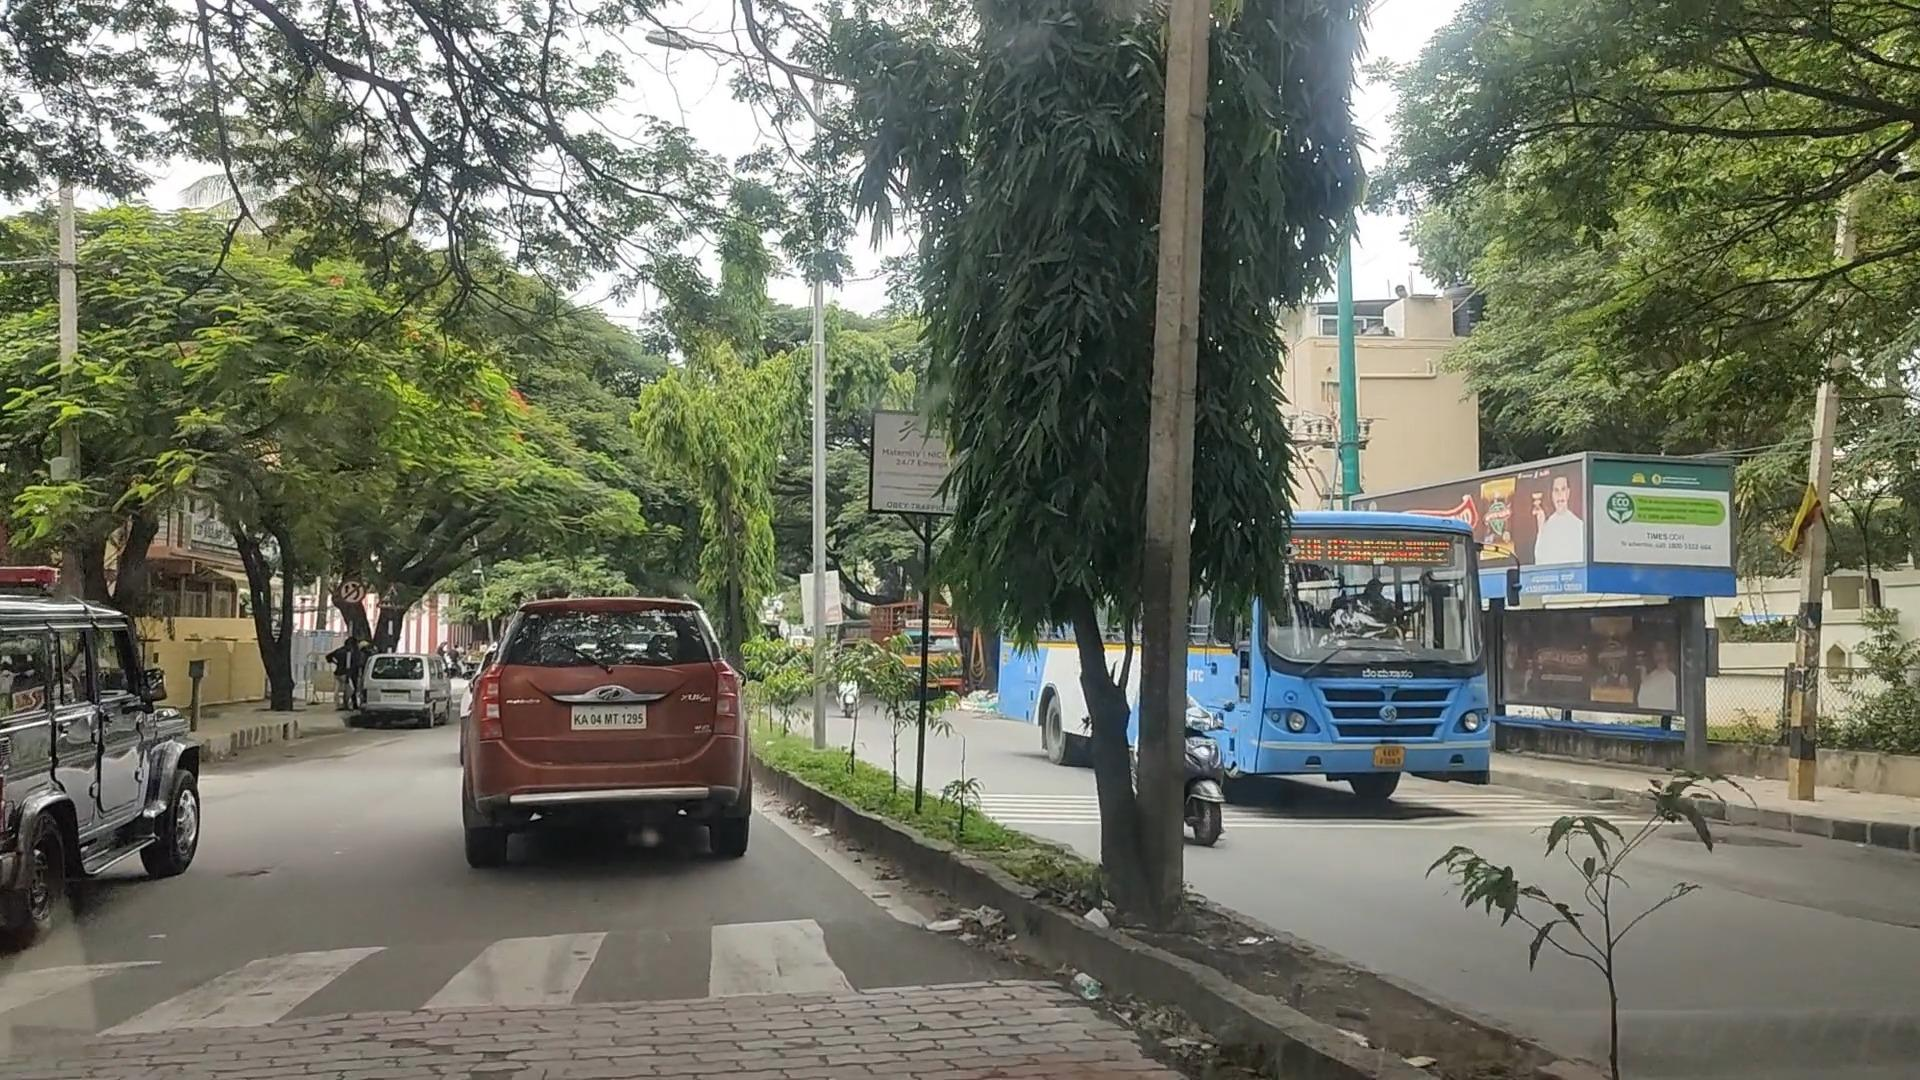LMV: (450, 592, 760, 855)
SpeedBump: (95, 902, 971, 1035)
